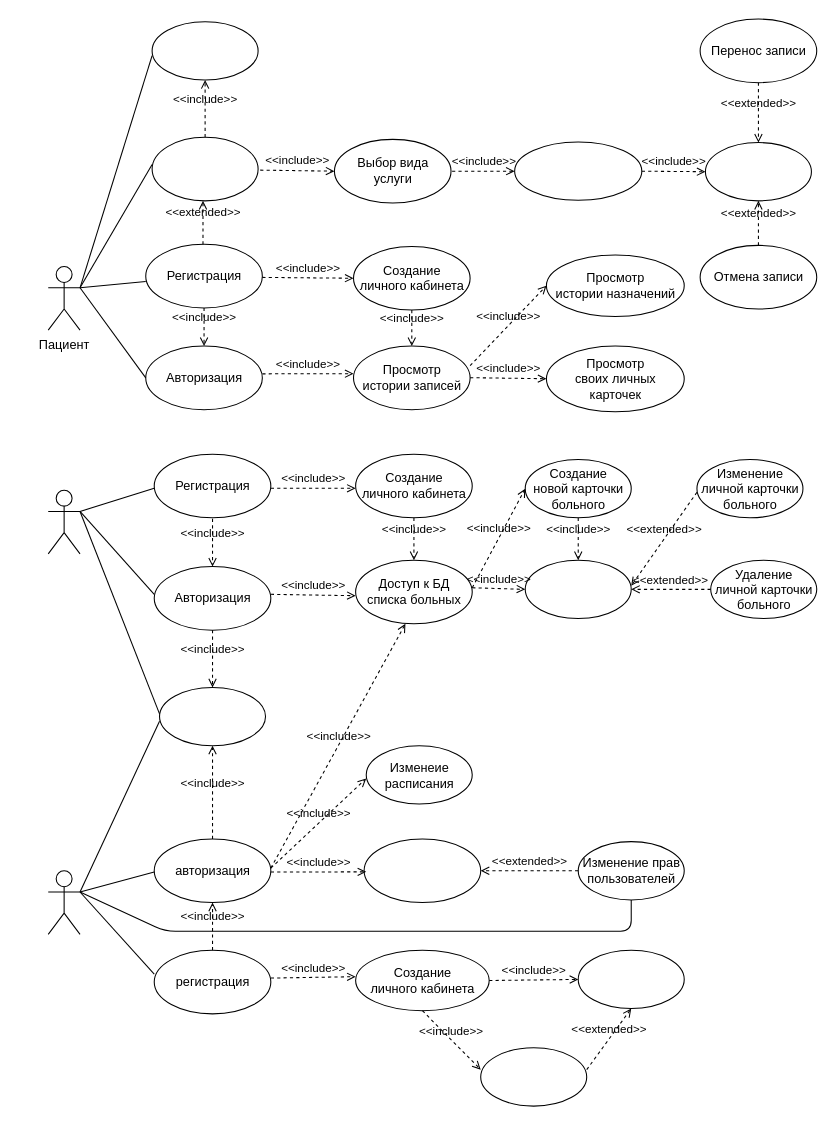
Image size: 835x1125. Some labels were removed from this diagram. The shapes that lost their labels are listed below. From the top down, each one's centre as x and y in pixels, then its label:
At [204,50]: "Расписание".
At [204,168]: "Выбор клиники из списка".
At [578,170]: "Выбор доктора".
At [757,171]: "Запись на прием".
At [63,521]: "Доктор".
At [577,589]: "Просмотр личной карточки больного".
At [212,716]: "Просмотр расписания".
At [422,870]: "Создание/удаление пользователей".
At [63,902]: "Администратор".
At [630,979]: "Изменение личных данных".
At [533,1076]: "Просмотр личных данных".
